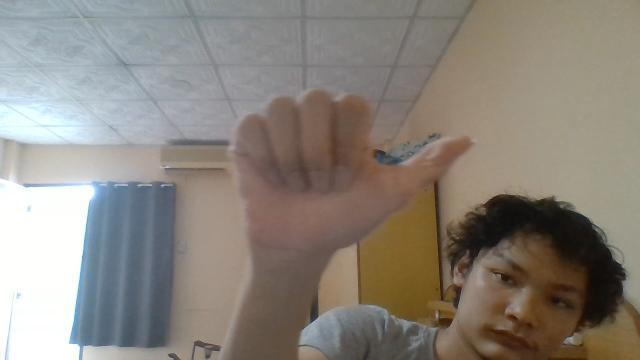left: (228, 88, 474, 258)
